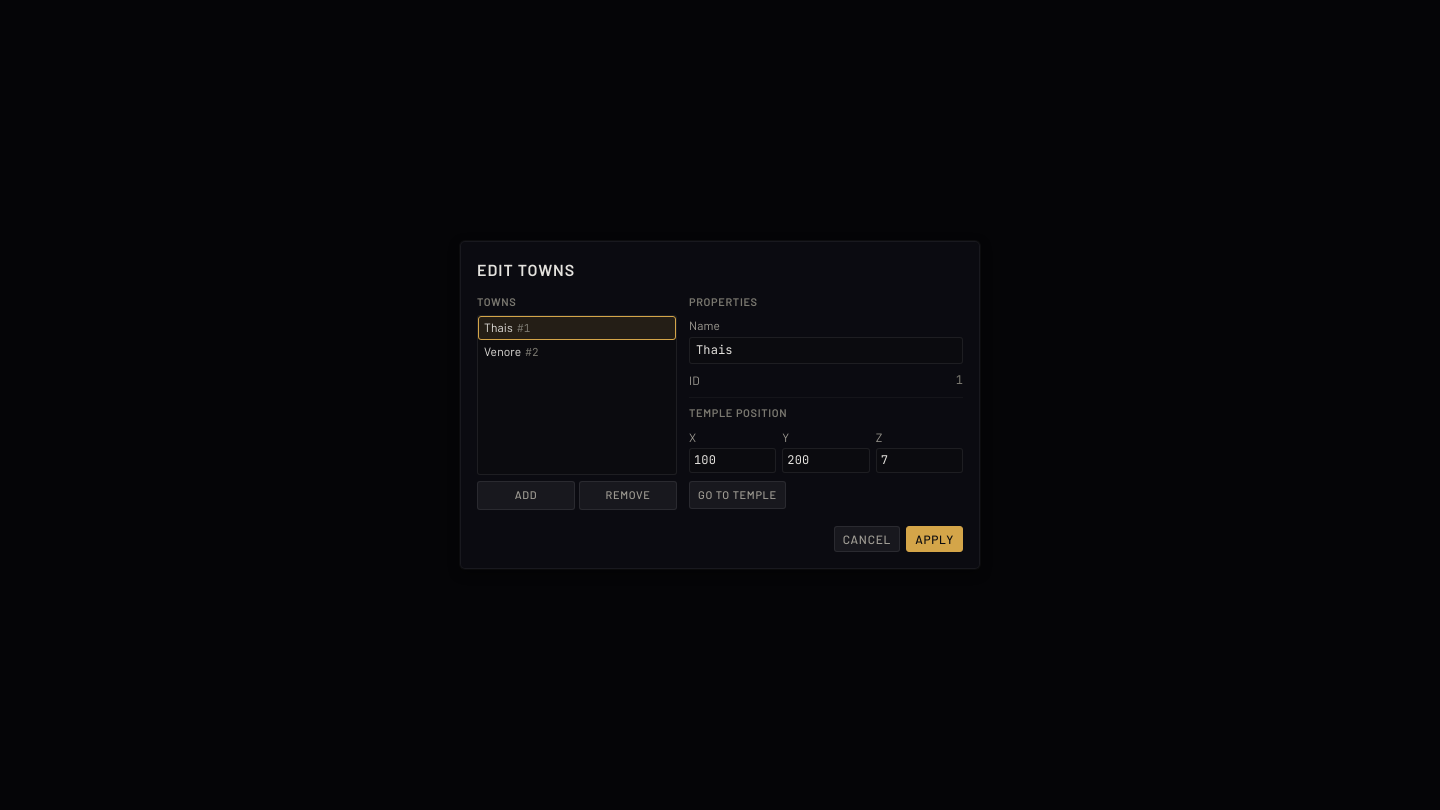
EditTownsModal › add town assigns correct incremented ID
What coordinates should you click on to do the following:
click the button "Add"
I would click on:
 (526, 496)
Its box is [477,481,575,510].
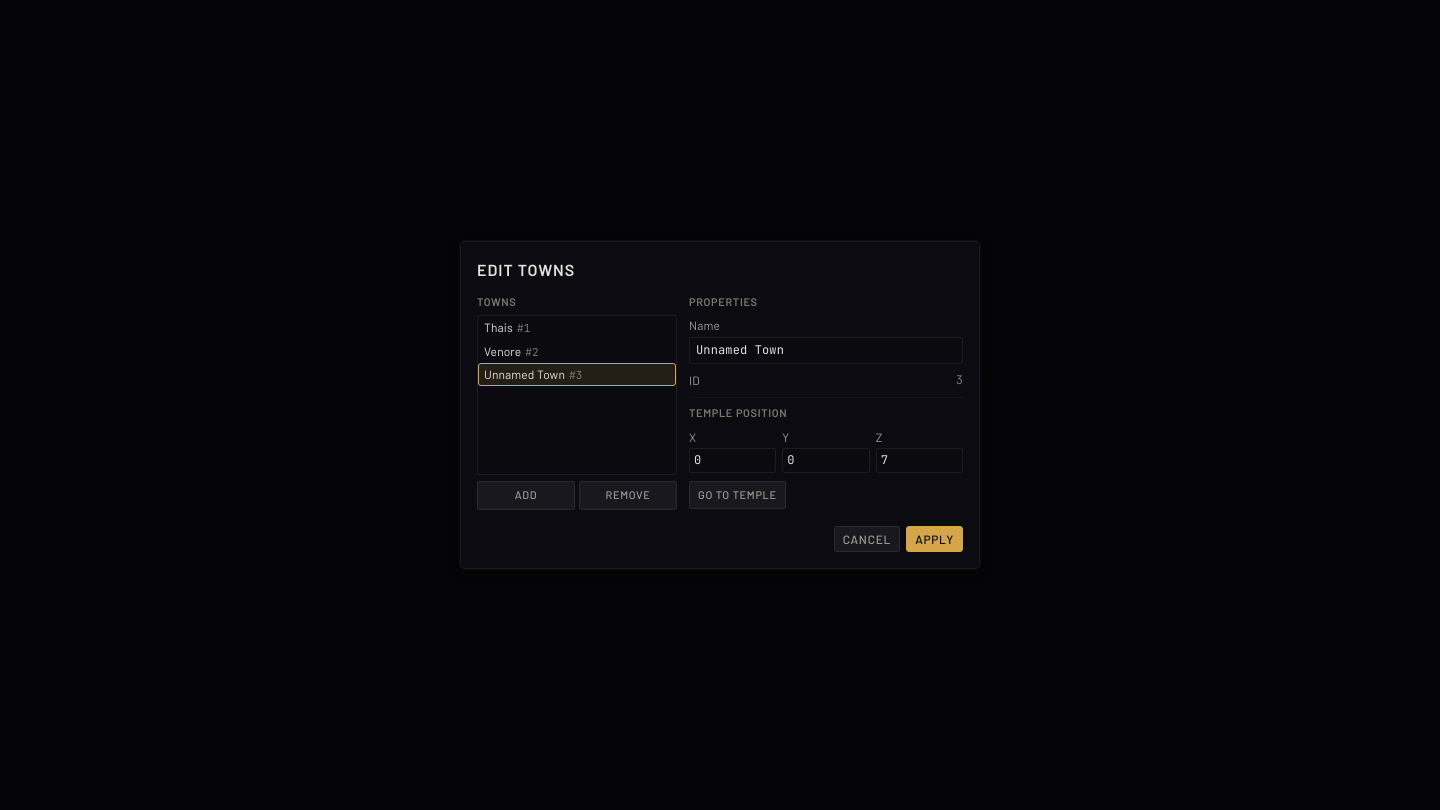
Result: the text "Unnamed Town" is shown at [484,366,565,383]
Result: the text "#3" is shown at [569,368,582,382]
